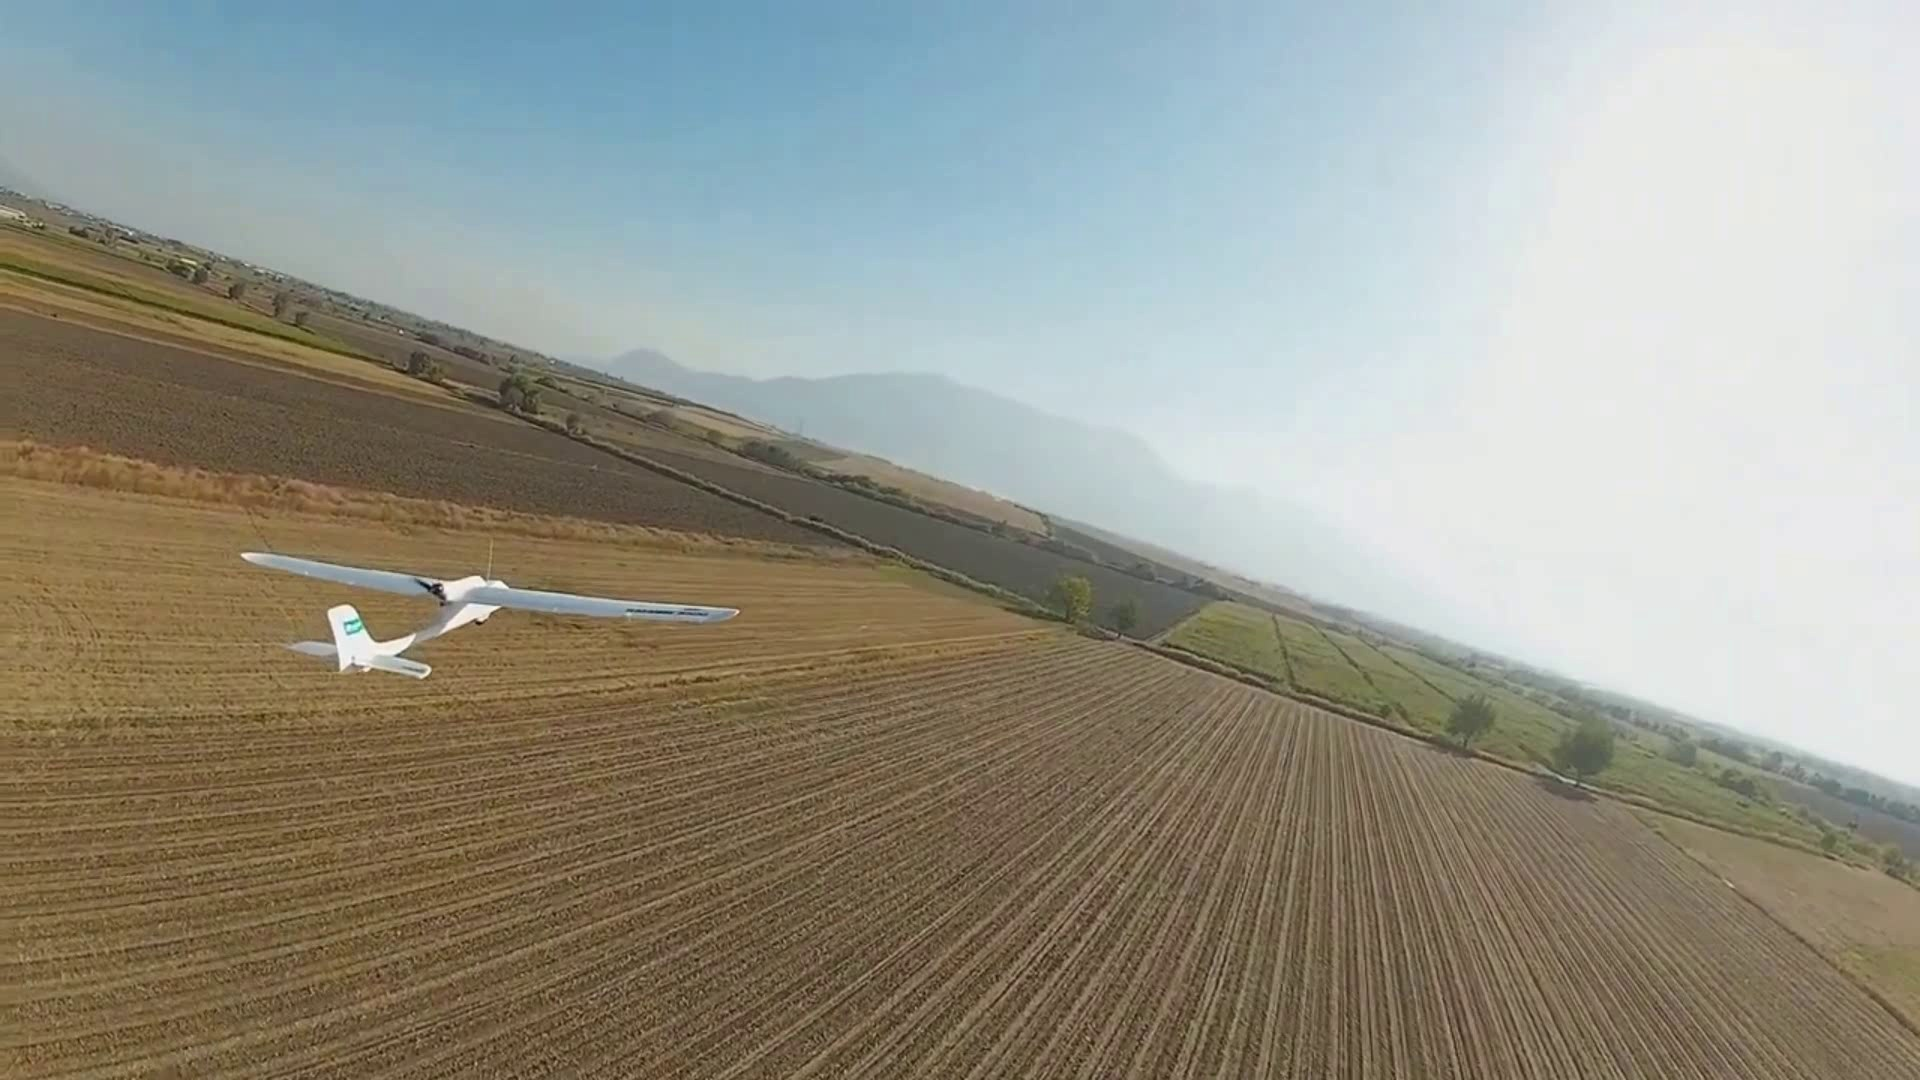airplane: (237, 542, 742, 680)
